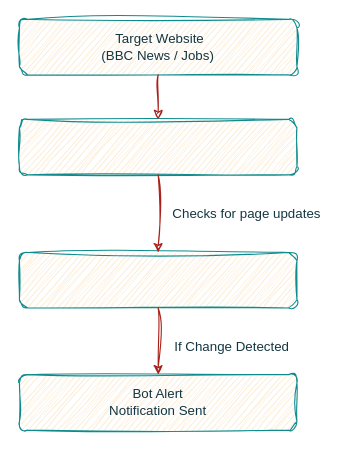
This 361x450 diagram has some shape labels left out. The centre of each missing label's shape, as x and y in pixels:
"Compare with Old Saved Page Content" belongs at (157,279).
"Python Monitor Bot (Playwright Script)." belongs at (157,146).
